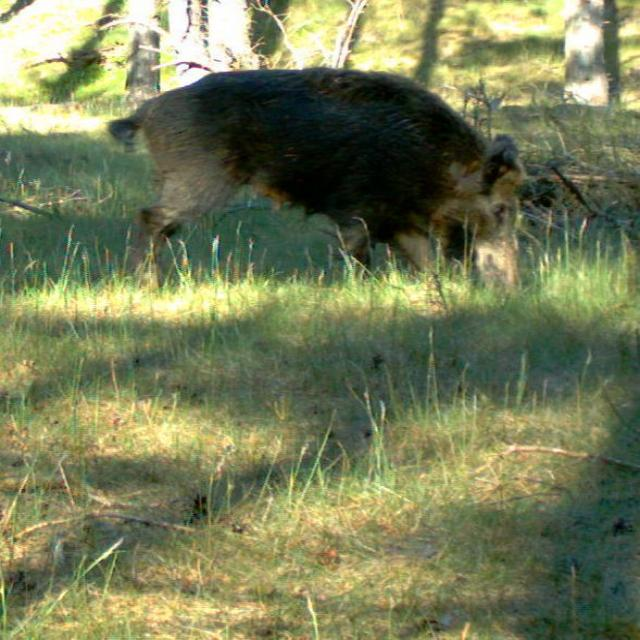pig: (95, 49, 526, 330)
